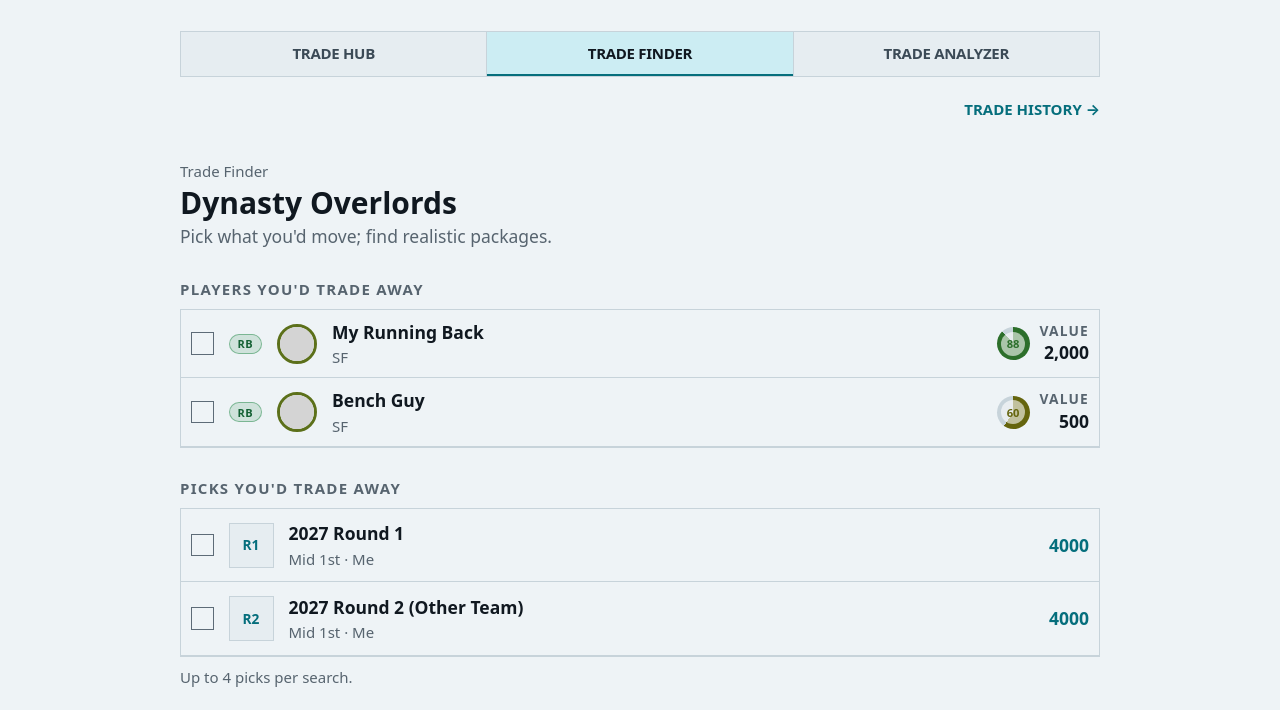
Test: TradeFinderContent › lists only the caller's own picks and searches with a picks-only selection plus Picks back
The image size is (1280, 710).
Check: the text "2027 Round 2 (Other Team)" is shown, box [288,595,523,620]
Click the text "2027 Round 1". click: (346, 534)
box: [288,521,404,546]
(page scrolled)
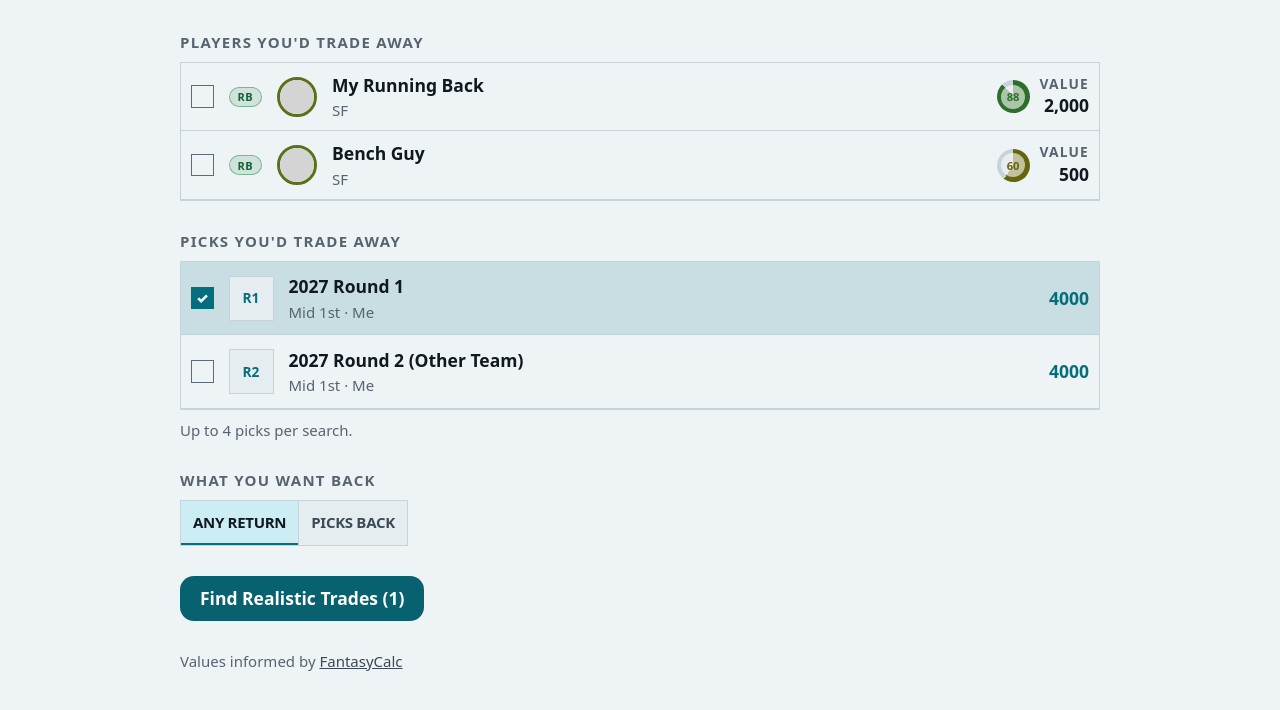
Check: the button "Find Realistic Trades (1)" is enabled, box [180,576,424,621]
Click the tab "Picks back". click: (352, 523)
box: [298,501,407,545]
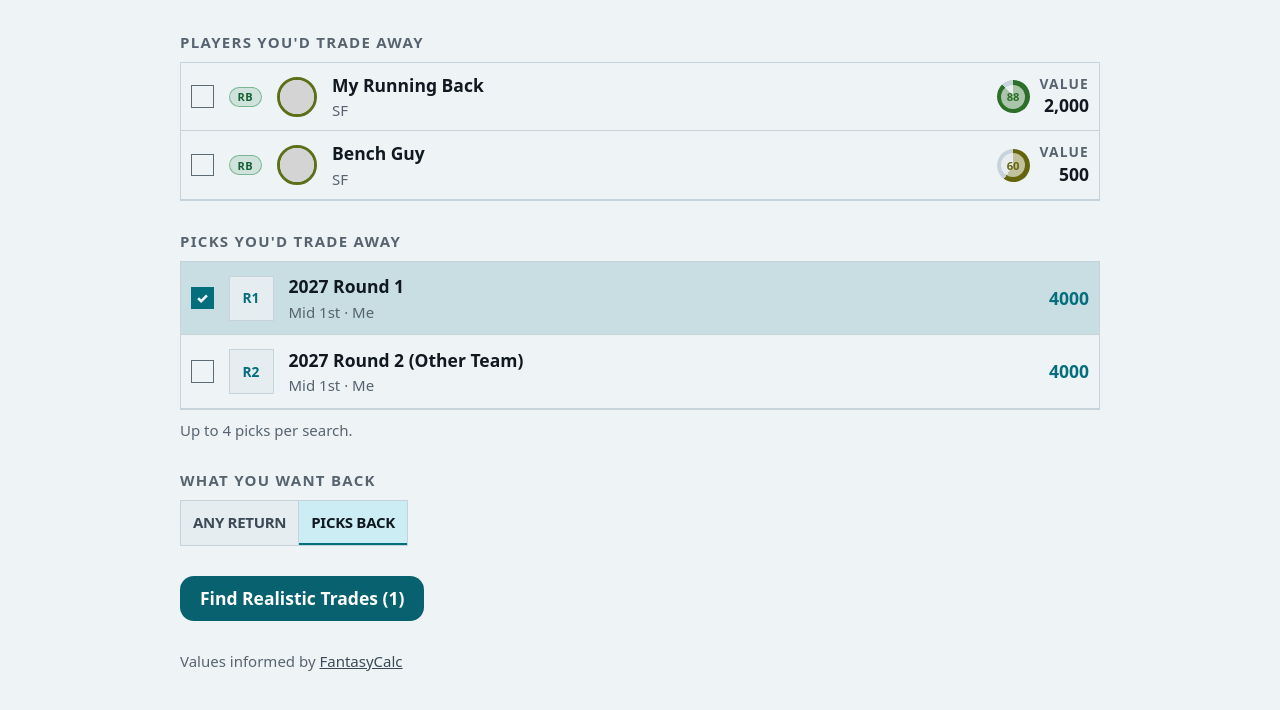
Click the button "Find Realistic Trades (1)". click: (302, 598)
box: [180,576,424,621]
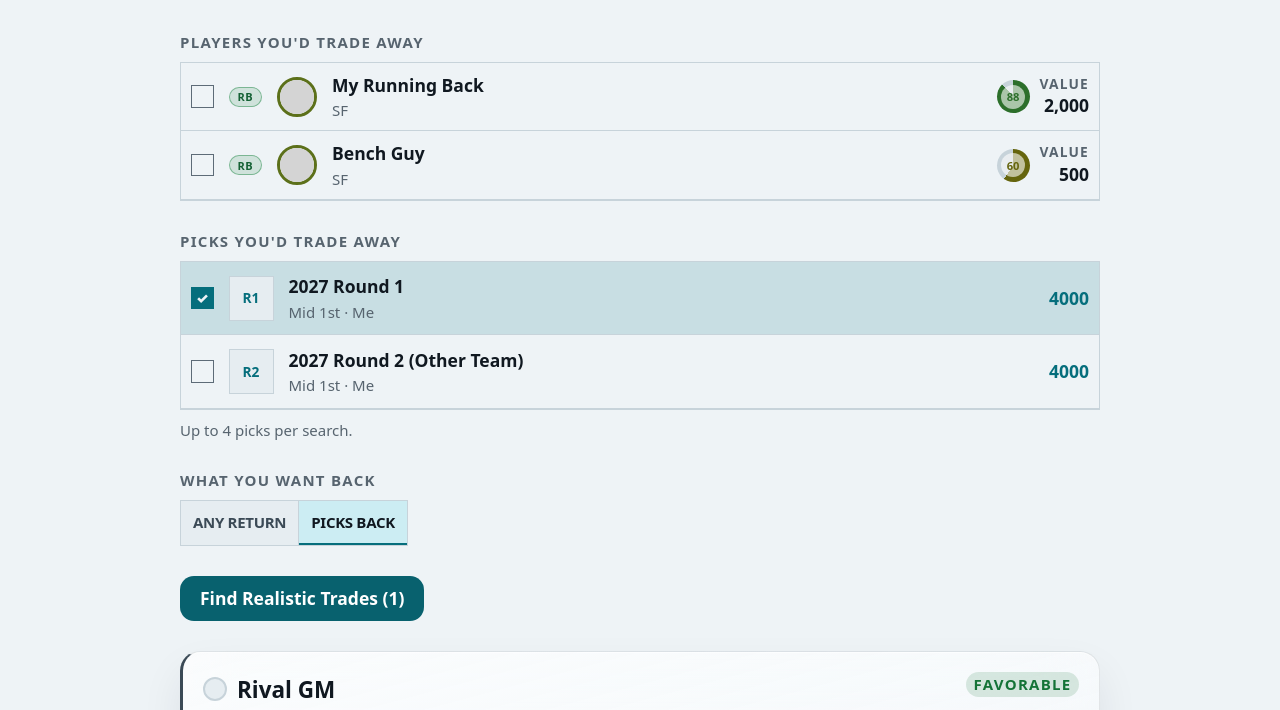
Check: the heading "Rival GM" is shown, box [237,672,335,707]
